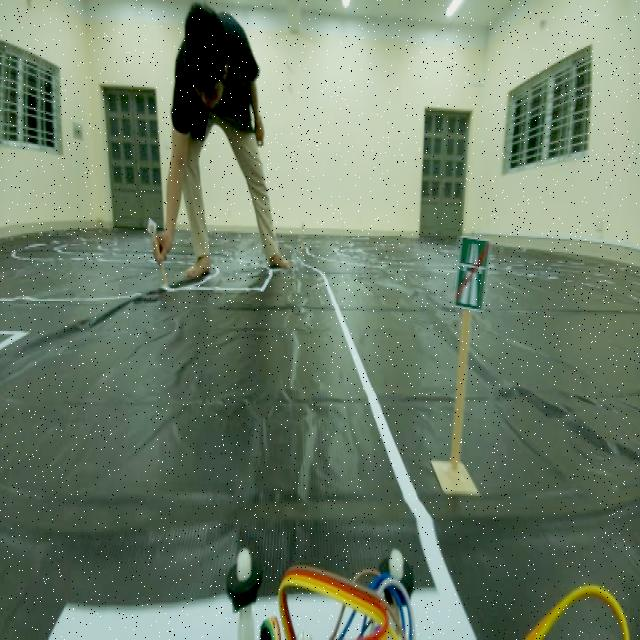highway_exit: (448, 233, 499, 321)
